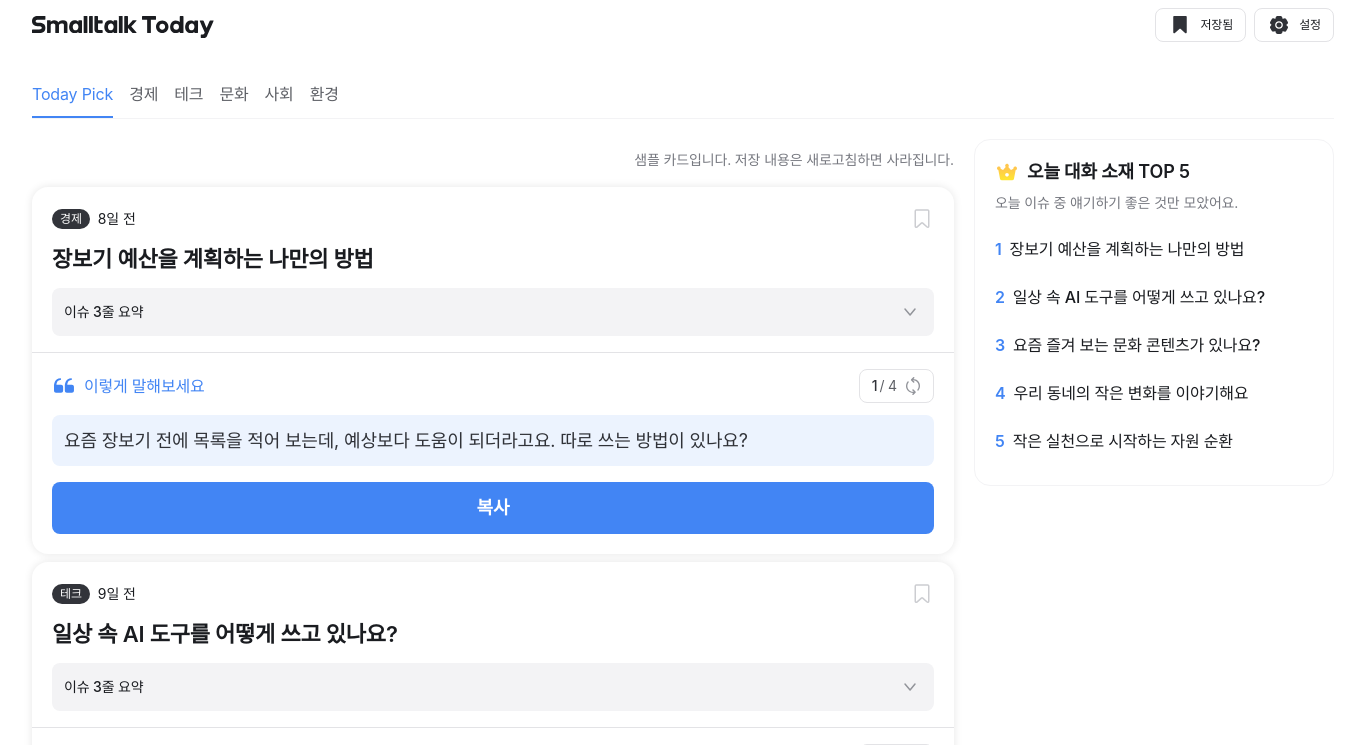
Test case: card screen integration › starts all summaries collapsed, filters categories, and caps manual regeneration at three
Later steps or results of the test are not shown.
Click the tab "경제" at (144, 94), box x1=129 y1=70 x2=158 y2=118
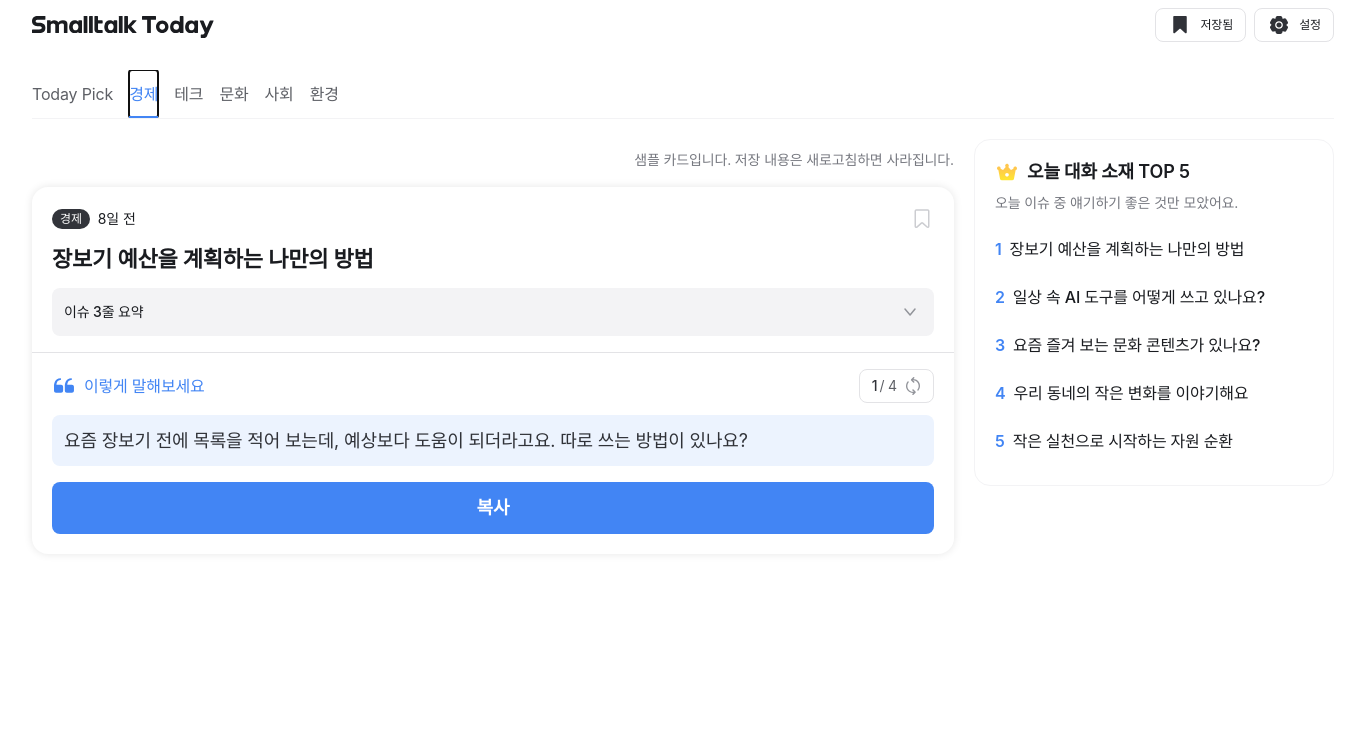
Click the button "이슈 3줄 요약" at (104, 312), box x1=52 y1=288 x2=934 y2=336
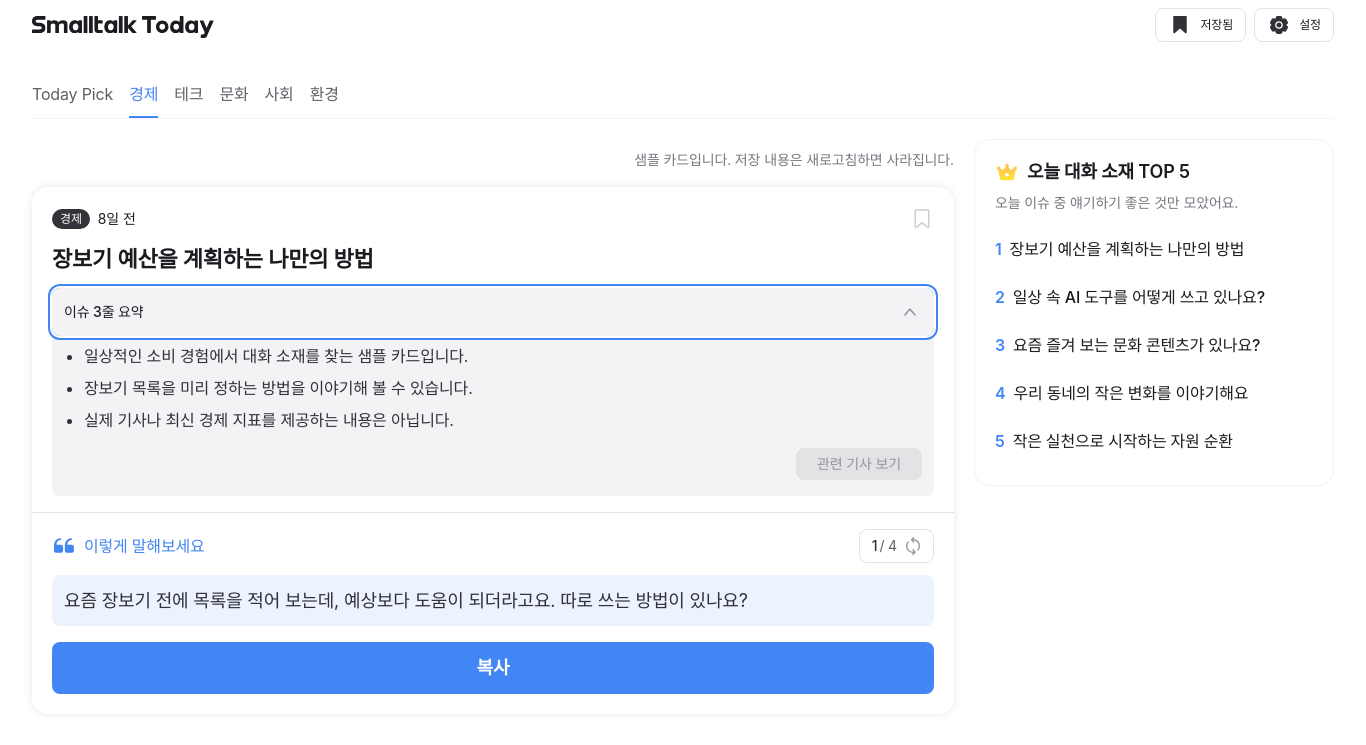
Click the button named "장보기 예산을 계획하는 나만의 방법 저장" at (922, 219), box x1=910 y1=207 x2=934 y2=231
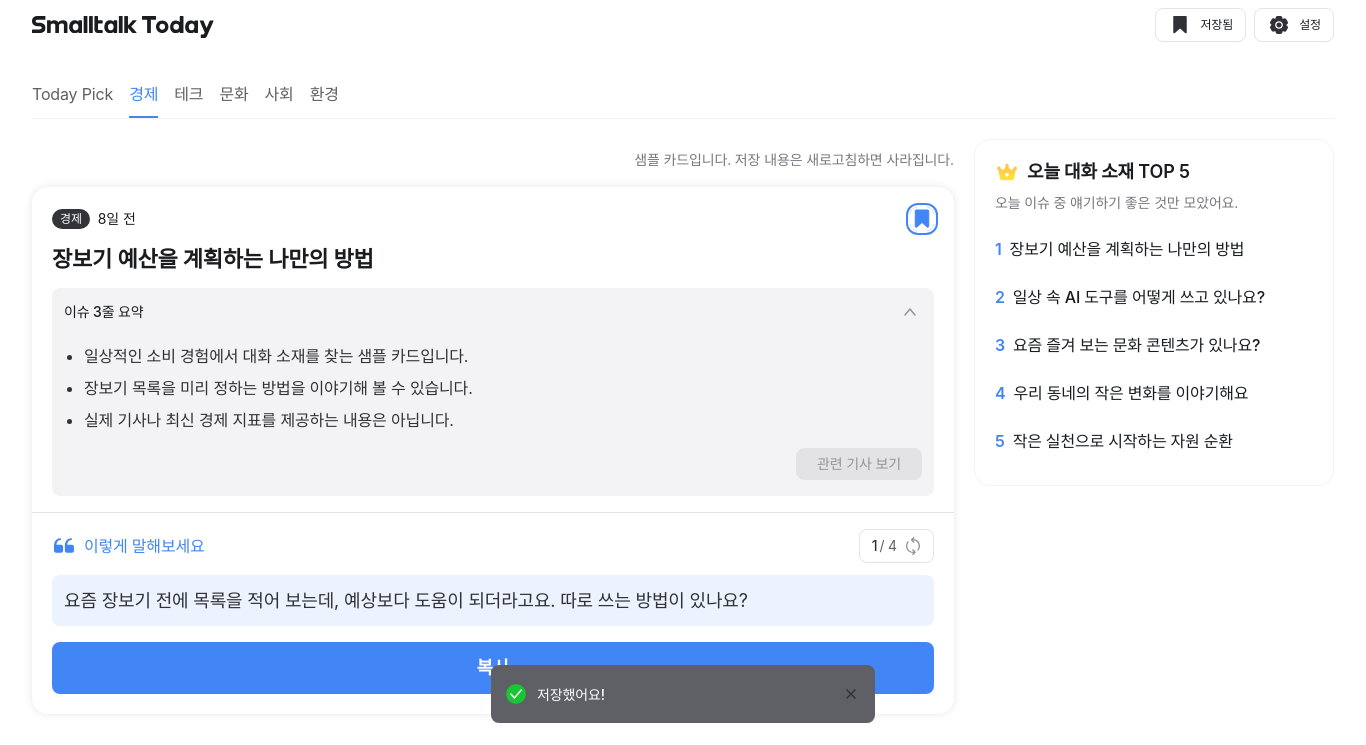
Click the button "1 / 4" at (896, 546), box x1=859 y1=529 x2=934 y2=563
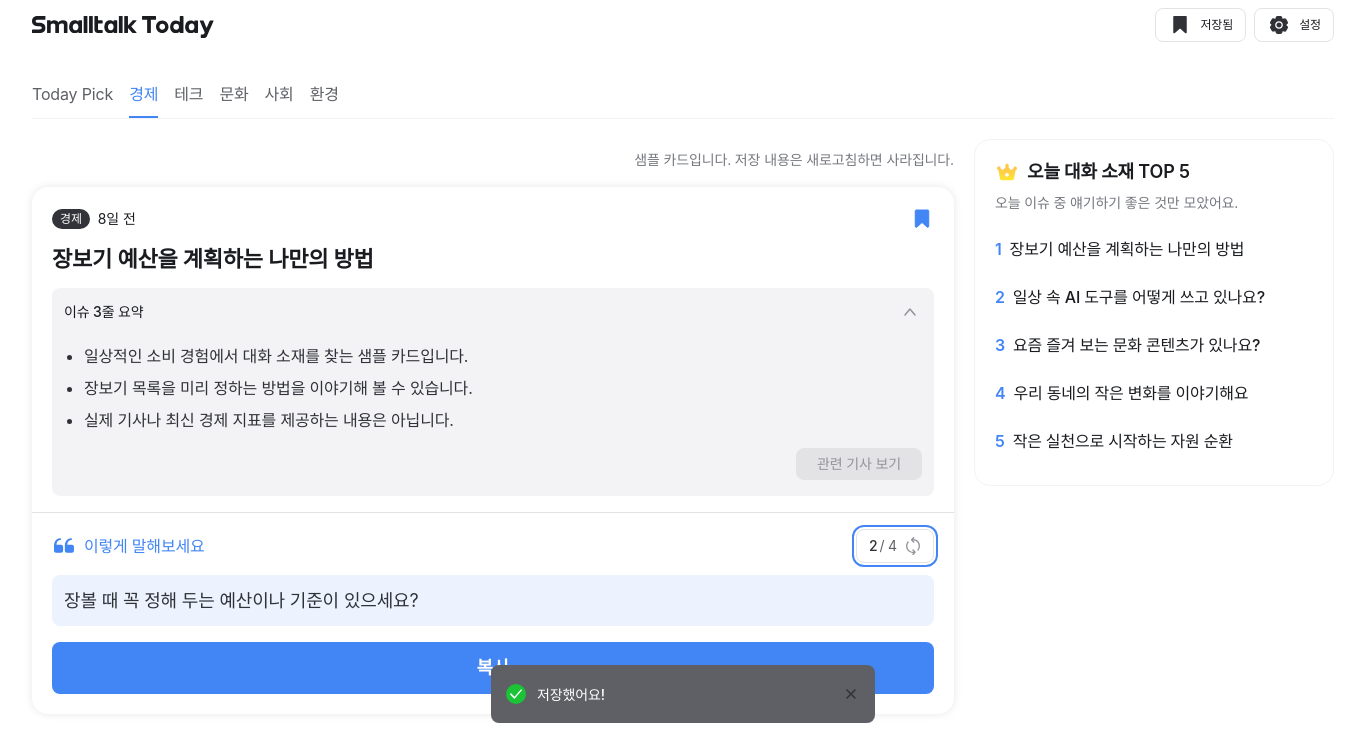
Check: the text "장볼 때 꼭 정해 두는 예산이나 기준이 있으세요?" is shown, box x1=52 y1=575 x2=934 y2=626
Click the button "2 / 4" at (895, 546), box x1=856 y1=529 x2=934 y2=563
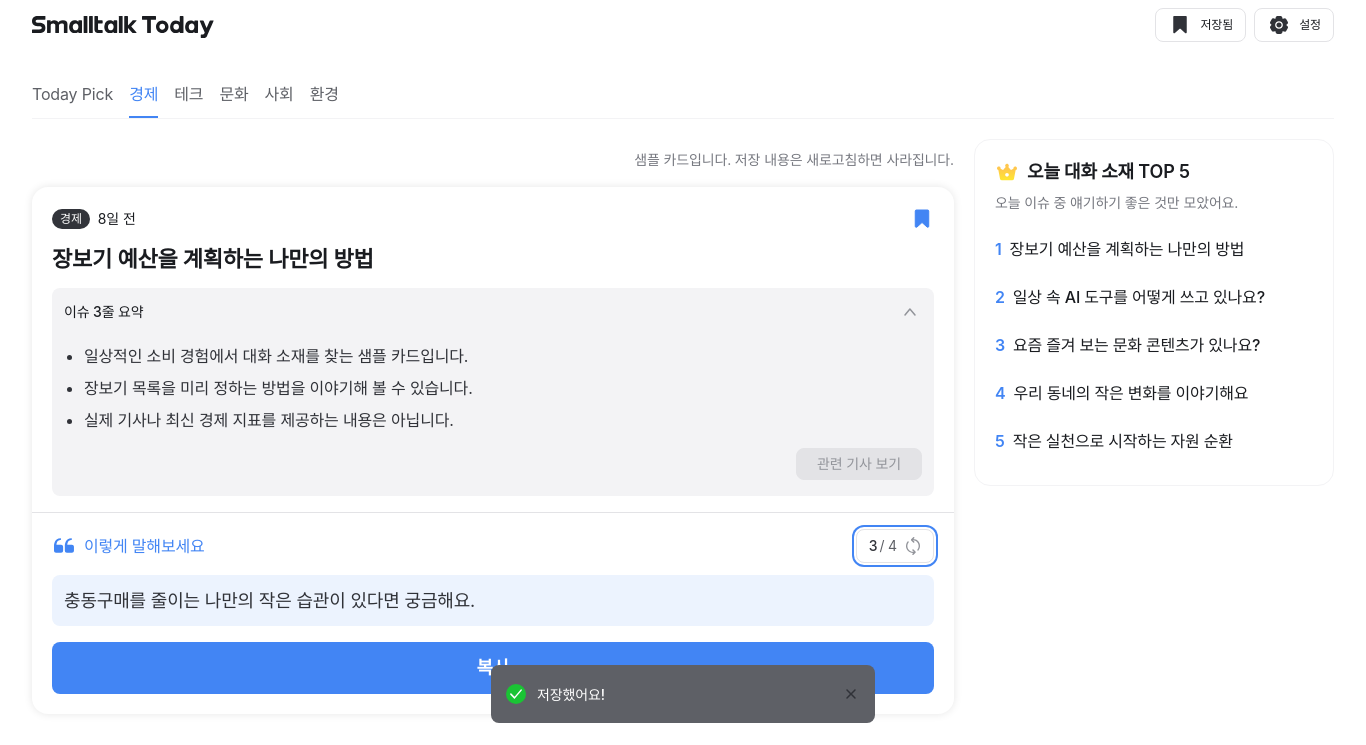
Check: the text "충동구매를 줄이는 나만의 작은 습관이 있다면 궁금해요." is shown, box x1=52 y1=575 x2=934 y2=626
Click the button "3 / 4" at (895, 546), box x1=856 y1=529 x2=934 y2=563
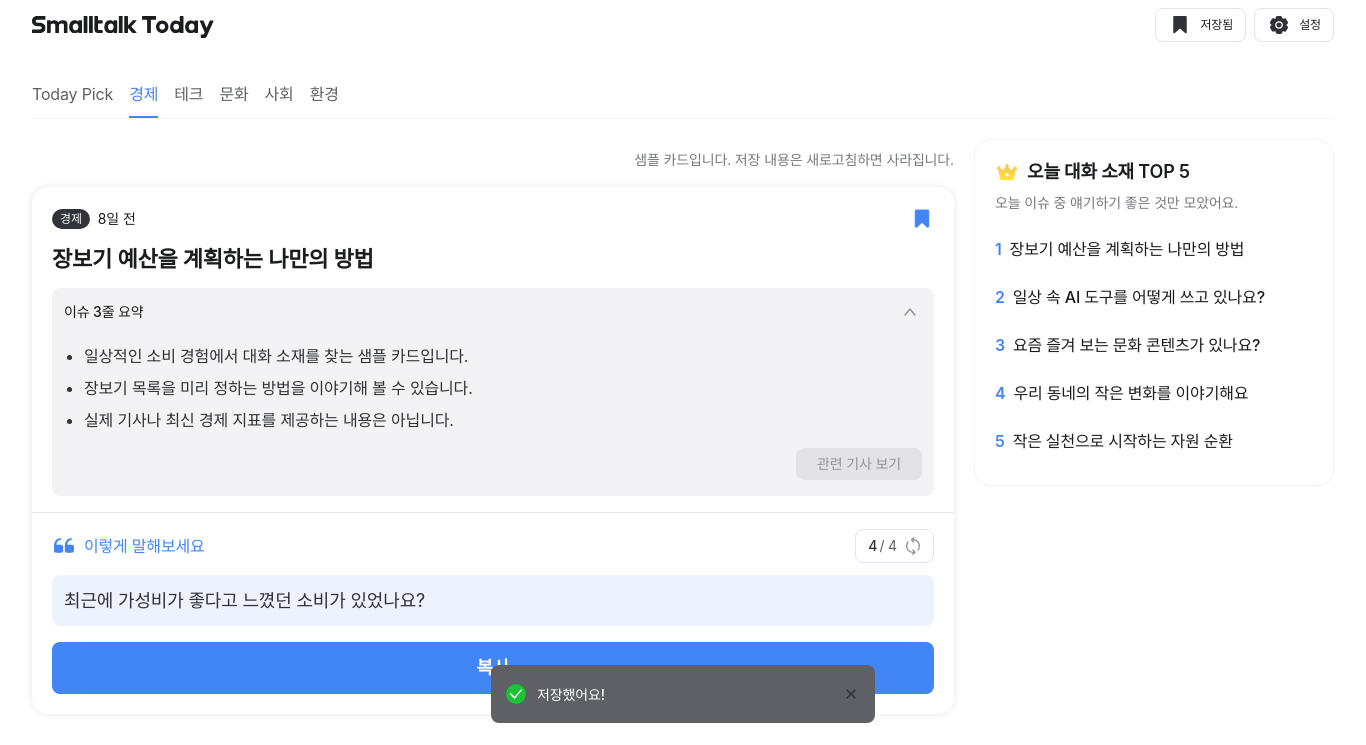
Check: the text "최근에 가성비가 좋다고 느꼈던 소비가 있었나요?" is shown, box x1=52 y1=575 x2=934 y2=626
